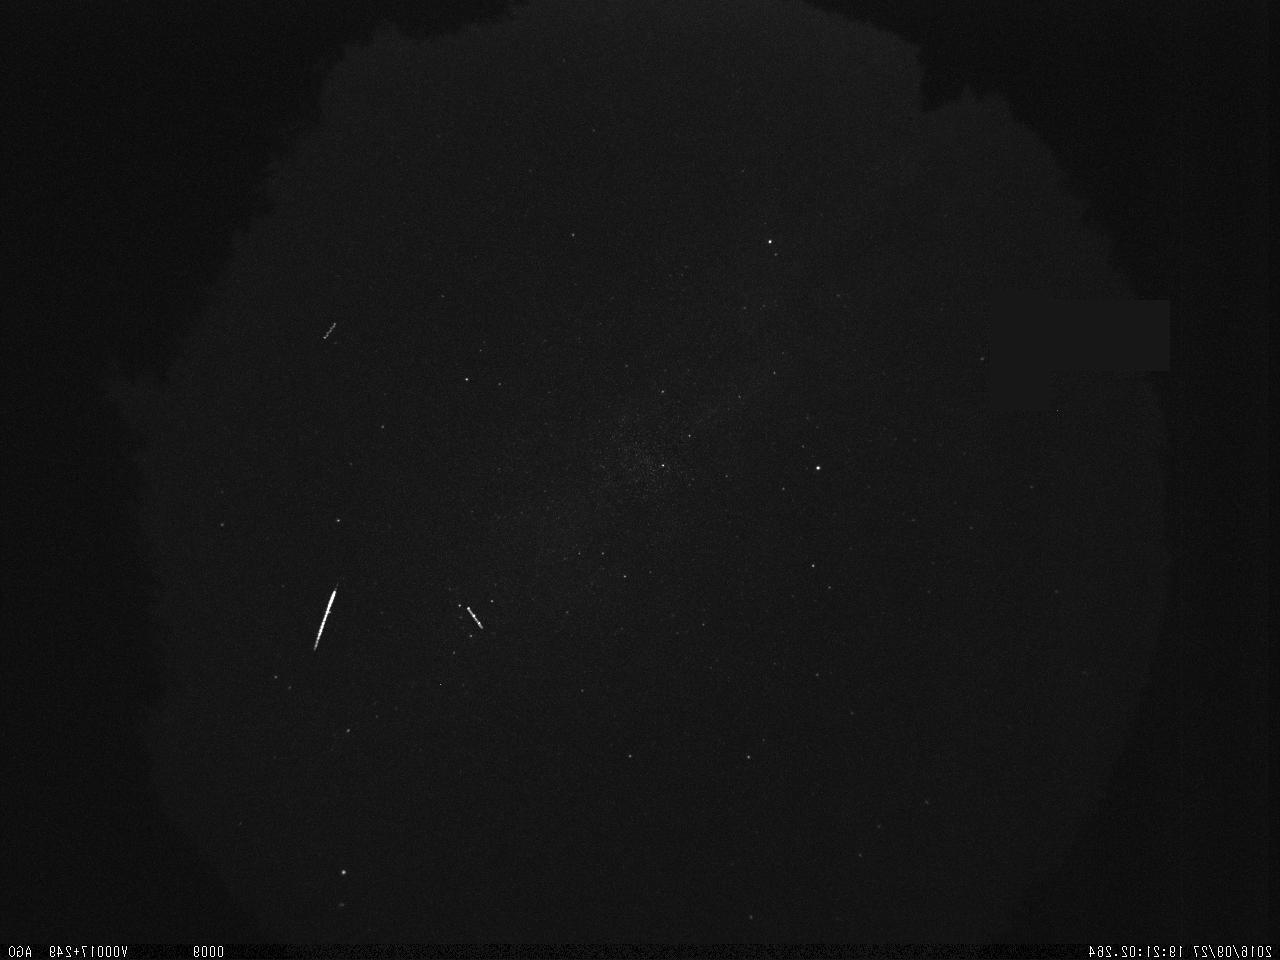meteor: (302, 578, 346, 659)
satelite: (314, 314, 344, 349), (462, 599, 489, 635)
